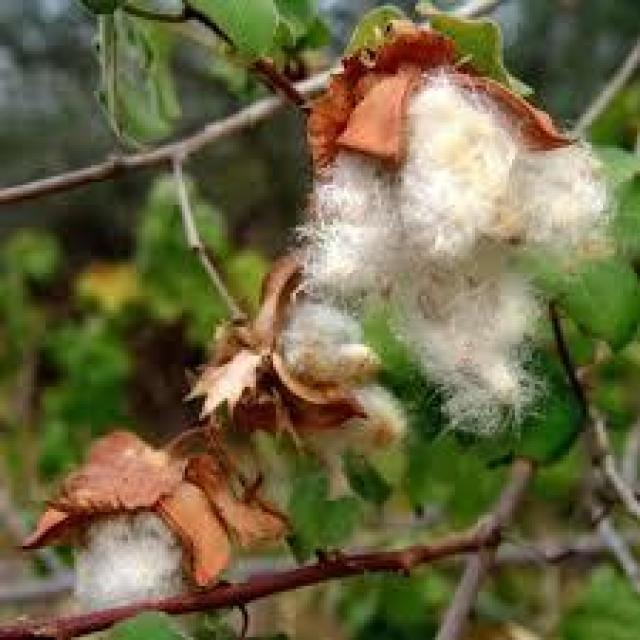Leaf: (293, 31, 623, 461)
